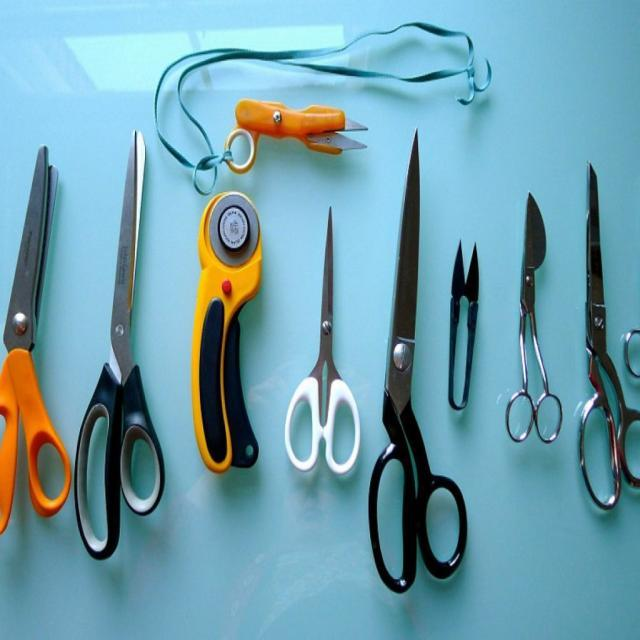tesoura: (366, 122, 478, 601), (76, 126, 168, 564), (0, 142, 74, 546), (572, 141, 640, 526), (282, 204, 363, 480), (503, 189, 565, 447)
